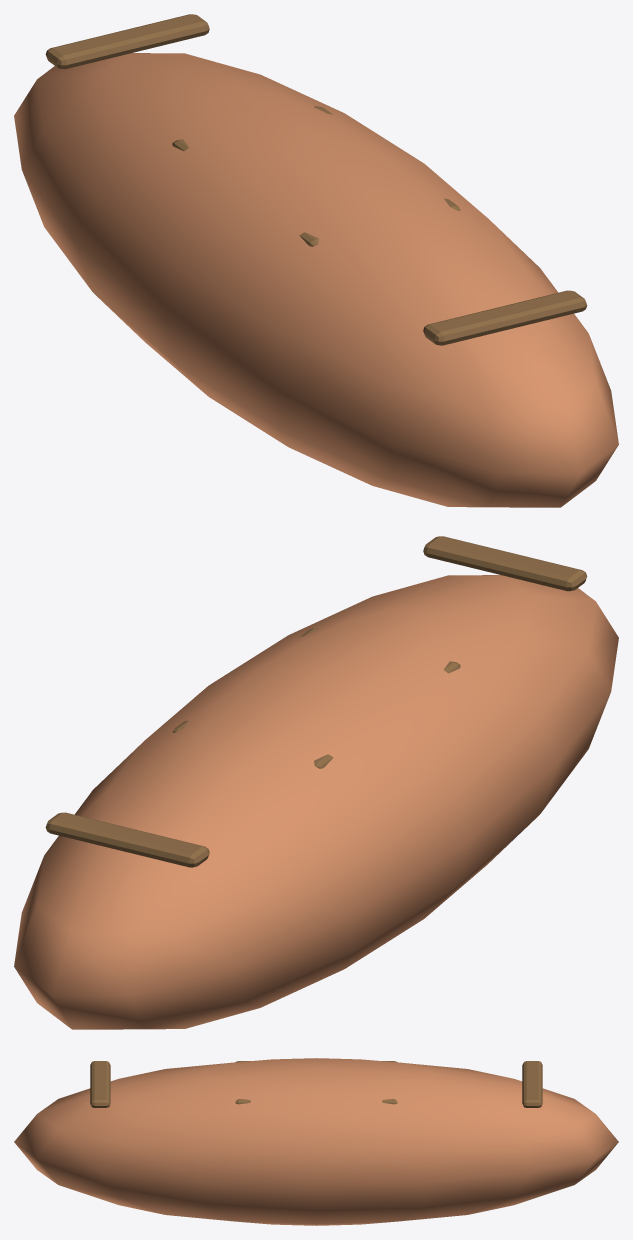
The model's file is sausage.glb.
The picture shows the model from 3 angles, top to bottom: view 1: azimuth 30°, elevation 25°; view 2: azimuth 150°, elevation 25°; view 3: azimuth 270°, elevation 25°; orthographic projection. The views are drawn at different scales.
Visible parts, largest first — view 1: Sausage.002, Scoring.002; view 2: Sausage.002, Scoring.002; view 3: Sausage.002, Scoring.002.
Boxes of the visible parts, x1,y1,x2,y2 form: Sausage.002: (14, 53, 618, 507); Scoring.002: (45, 14, 587, 345); Sausage.002: (14, 575, 618, 1029); Scoring.002: (45, 536, 587, 867); Sausage.002: (14, 1058, 618, 1225); Scoring.002: (90, 1061, 542, 1107).
Size of the model in its own units: 0.07 by 0.056 by 0.21.
